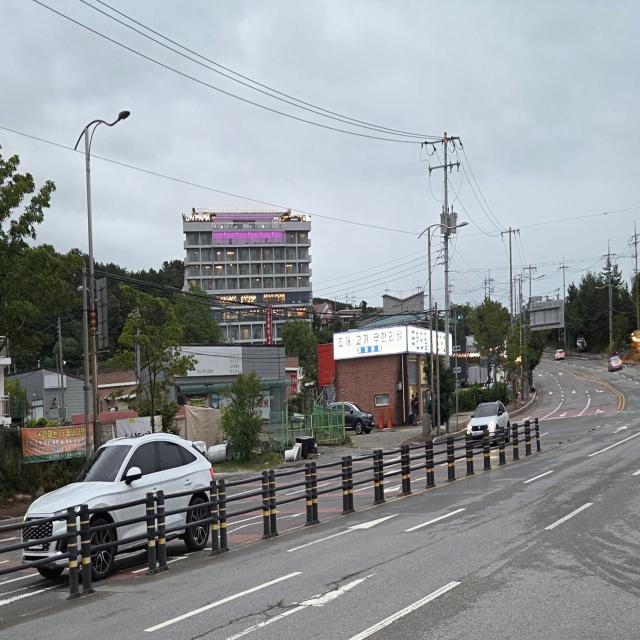car: (8, 427, 240, 583), (463, 395, 514, 457), (323, 395, 377, 449)
